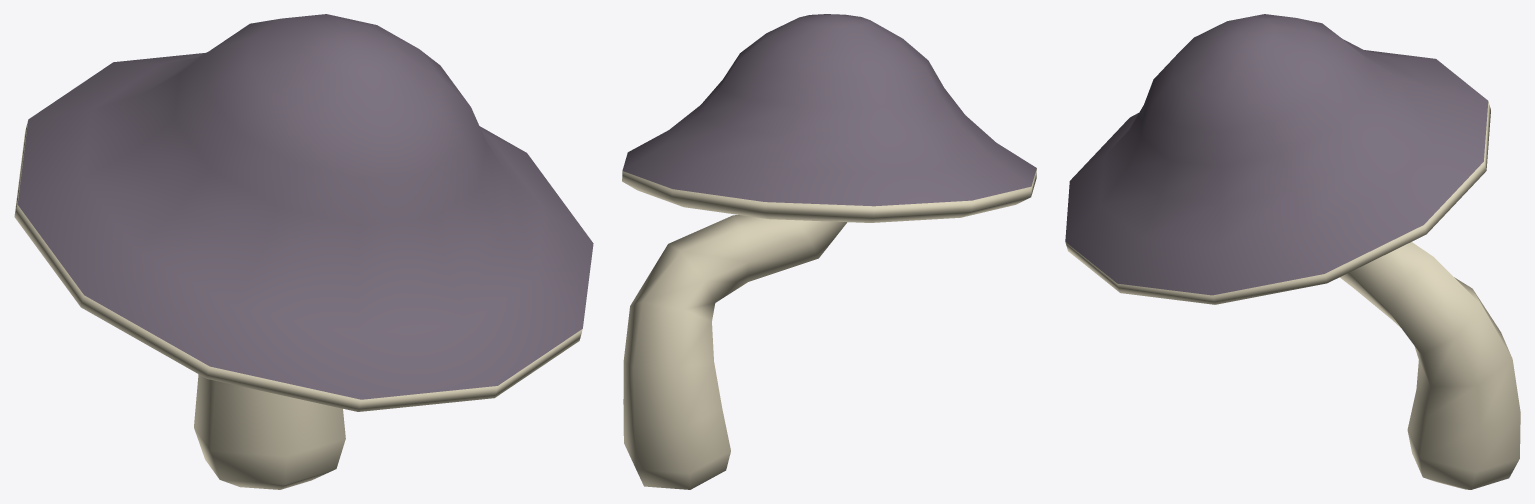
Rendered from P_mushroom_08_LD.fbx.
3 renders of one model, left to right at view 1: azimuth 30°, elevation 25°; view 2: azimuth 150°, elevation 25°; view 3: azimuth 270°, elevation 25°, orthographic. The views are drawn at different scales.
Visible parts, largest first — view 1: P_mushroom_08; view 2: P_mushroom_08; view 3: P_mushroom_08.
Boxes of the visible parts, <box> form: P_mushroom_08: <box>14,14,593,489</box>; P_mushroom_08: <box>622,14,1036,489</box>; P_mushroom_08: <box>1065,14,1520,489</box>.
Size of the model in its own units: 46.97 by 50.25 by 48.93.
